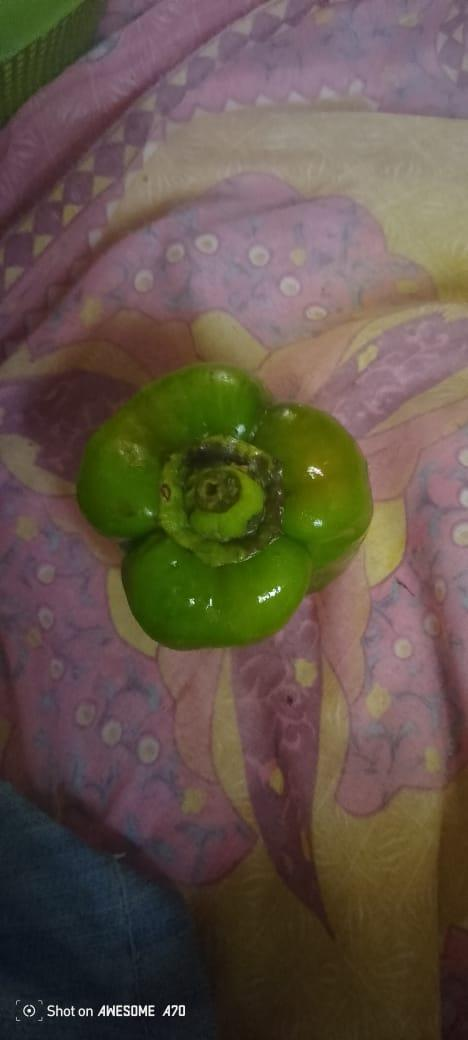non-mango: (73, 358, 360, 634)
